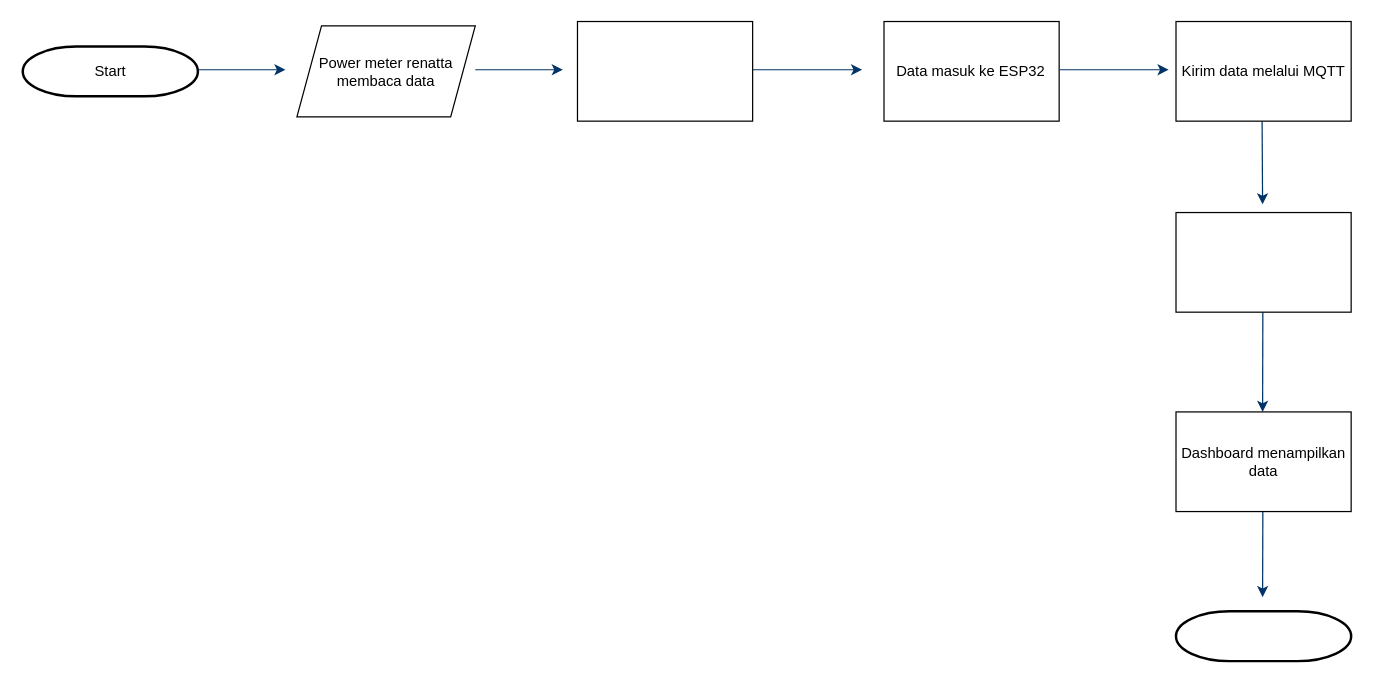
The diagram is 1373 pixels wide and 684 high, and some of its shapes have lost their labels. Each missing label, with the box of its shape:
end: (1174, 609, 1352, 662)
Memproses data melalui Node-RED: (1175, 211, 1351, 312)
Pengiriman data melalui RS485: (576, 20, 753, 121)
